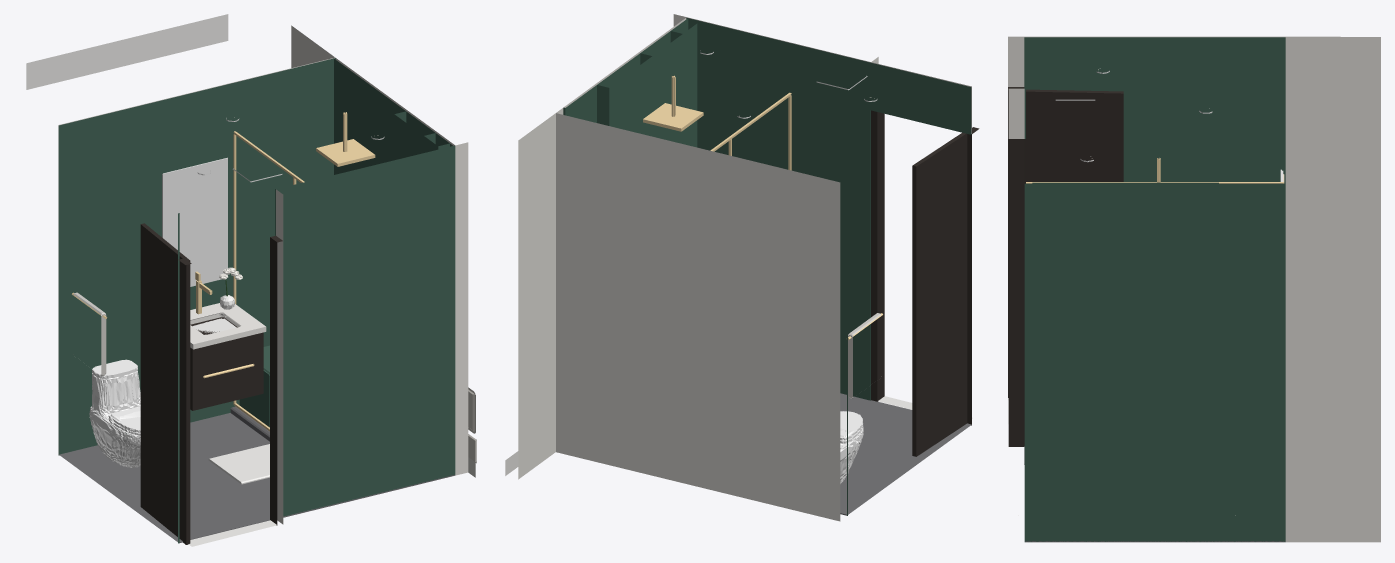
File: CBATH.glb
3 views of the same model, side by side, from view 1: azimuth 30°, elevation 25°; view 2: azimuth 150°, elevation 25°; view 3: azimuth 270°, elevation 25° (orthographic). The views are drawn at different scales.
Parts seen in each view (by area): view 1: WEB_CBATH; view 2: WEB_CBATH; view 3: WEB_CBATH.
Boxes of the visible parts, bbox=[...] form: WEB_CBATH: bbox=[26, 14, 476, 546]; WEB_CBATH: bbox=[505, 14, 979, 521]; WEB_CBATH: bbox=[1008, 36, 1380, 542].
Bounding box in the file's own units: 2.34 × 2.7 × 2.36.
